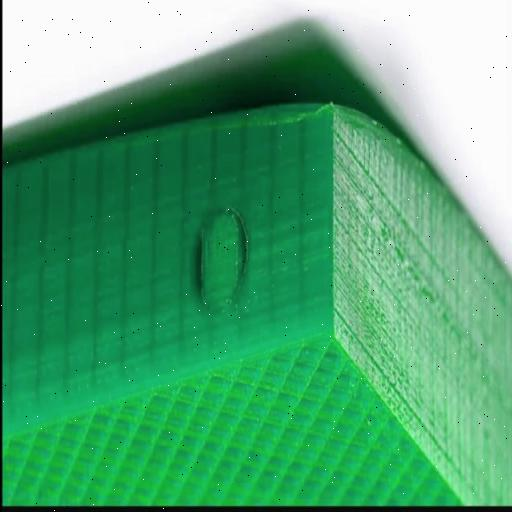cracks: (182, 196, 282, 322)
